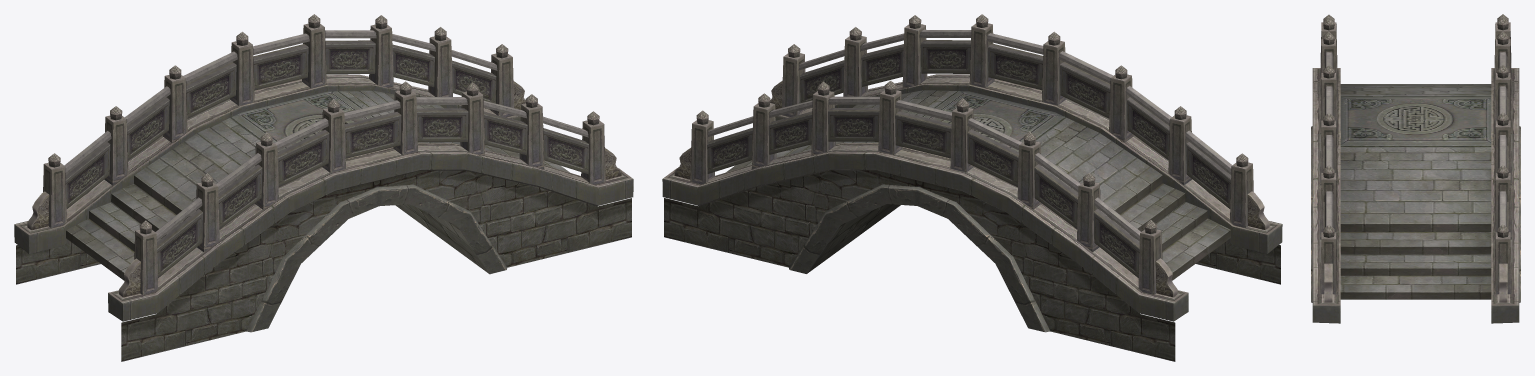
File: s7_unioncity_jianzhu_qiao02.FBX
The picture shows the model from 3 angles, left to right: view 1: azimuth 30°, elevation 25°; view 2: azimuth 150°, elevation 25°; view 3: azimuth 270°, elevation 25°; orthographic projection. The views are drawn at different scales.
Parts seen in each view (by area): view 1: Object01xcxc01; view 2: Object01xcxc01; view 3: Object01xcxc01.
Part boxes in pixels (bbox=[...]): Object01xcxc01: bbox=[14, 14, 633, 361]; Object01xcxc01: bbox=[662, 14, 1282, 361]; Object01xcxc01: bbox=[1311, 14, 1520, 323].
Bounding box in the file's own units: 44.23 × 16.96 × 16.51.
1 material, 1 textured.
